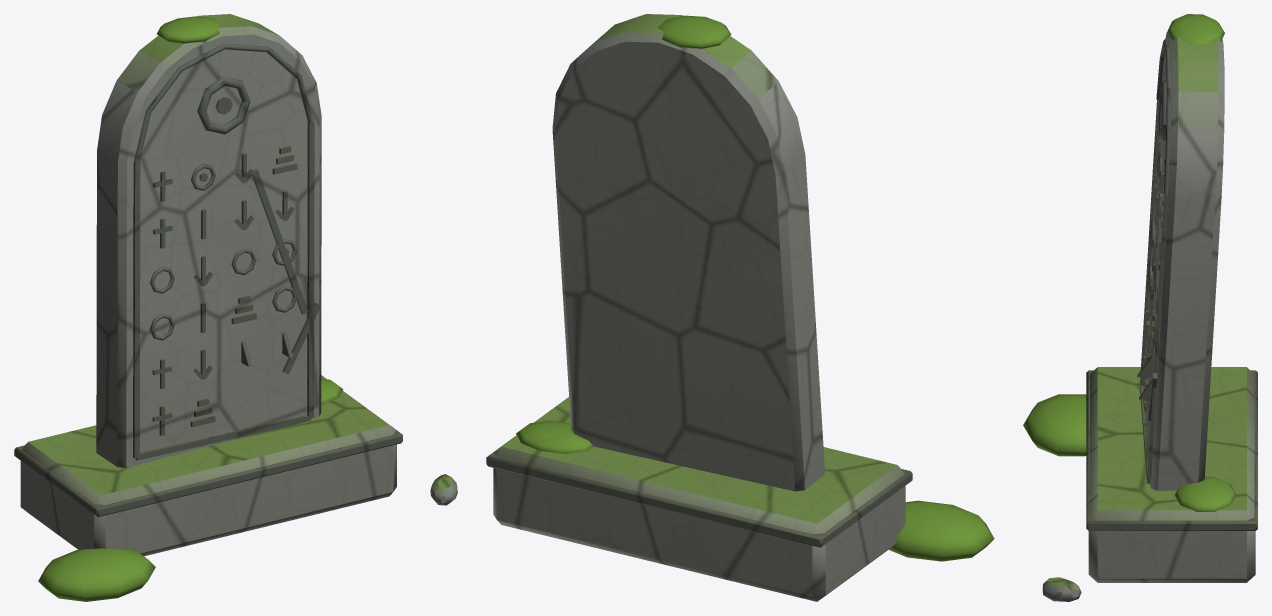
File: stone_tablet.glb
3 views of the same model, side by side, from view 1: azimuth 30°, elevation 25°; view 2: azimuth 150°, elevation 25°; view 3: azimuth 270°, elevation 25° (orthographic). The views are drawn at different scales.
Parts seen in each view (by area): view 1: stone_tablet; view 2: stone_tablet; view 3: stone_tablet.
Boxes of the visible parts, x1,y1,x2,y2 form: stone_tablet: (14, 14, 457, 601); stone_tablet: (486, 14, 994, 601); stone_tablet: (1023, 14, 1257, 601).
Size of the model in its own units: 2.15 by 2.46 by 1.06.
3 materials, 3 textured.
